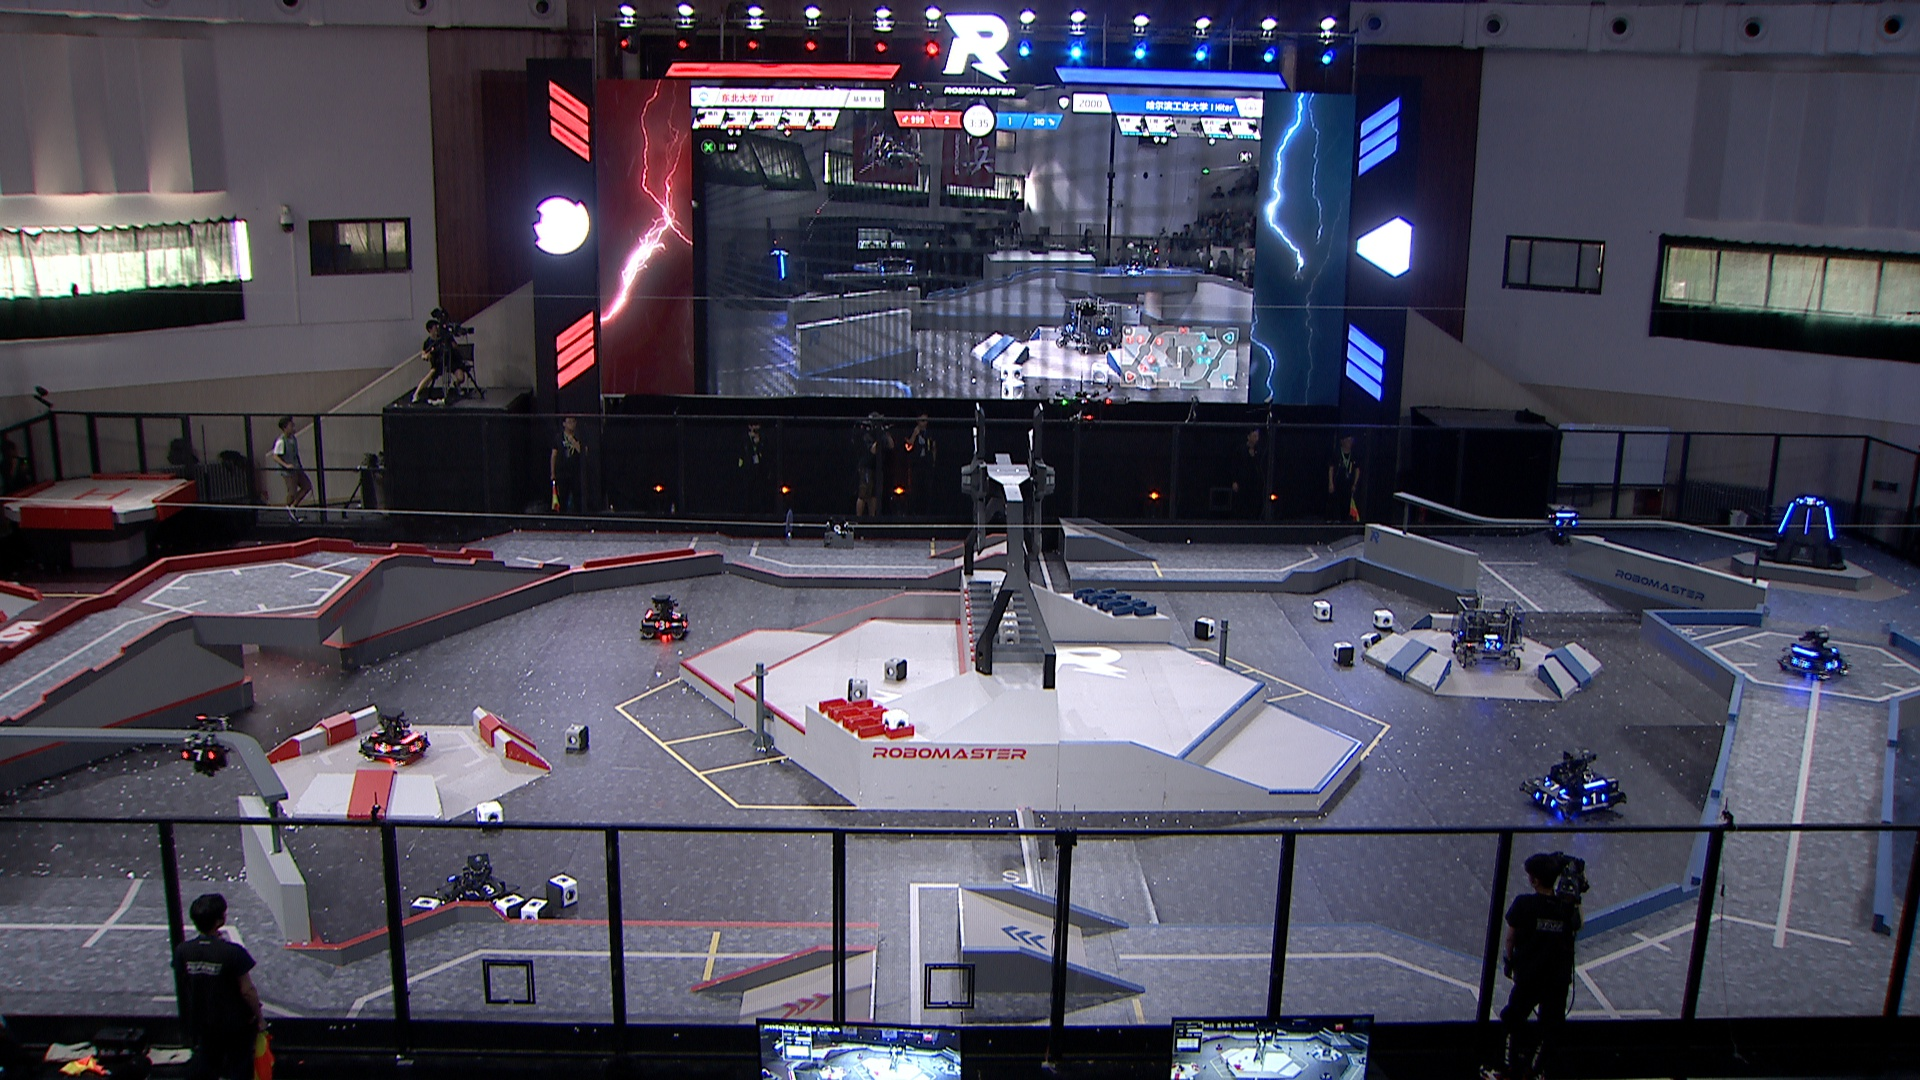armor: (1776, 500, 1795, 534), (473, 880, 501, 901), (182, 746, 220, 761), (1532, 789, 1555, 807), (1801, 505, 1812, 538), (1581, 793, 1607, 804), (409, 737, 425, 754), (372, 741, 390, 756), (1797, 495, 1822, 505), (1547, 781, 1567, 794), (1825, 505, 1832, 542), (1482, 637, 1501, 650), (1793, 655, 1811, 669), (1556, 517, 1576, 527), (654, 618, 671, 628), (1826, 657, 1840, 669), (371, 727, 389, 735), (671, 607, 683, 618)
base: (1756, 488, 1850, 570)
car: (1519, 749, 1629, 823), (1452, 593, 1524, 670), (438, 855, 517, 918), (1778, 622, 1851, 680), (356, 708, 430, 766), (637, 591, 694, 645)
ignore: (1062, 291, 1124, 357), (754, 244, 804, 291), (1117, 253, 1150, 276)
watcher: (171, 713, 231, 777), (1542, 498, 1585, 550)
